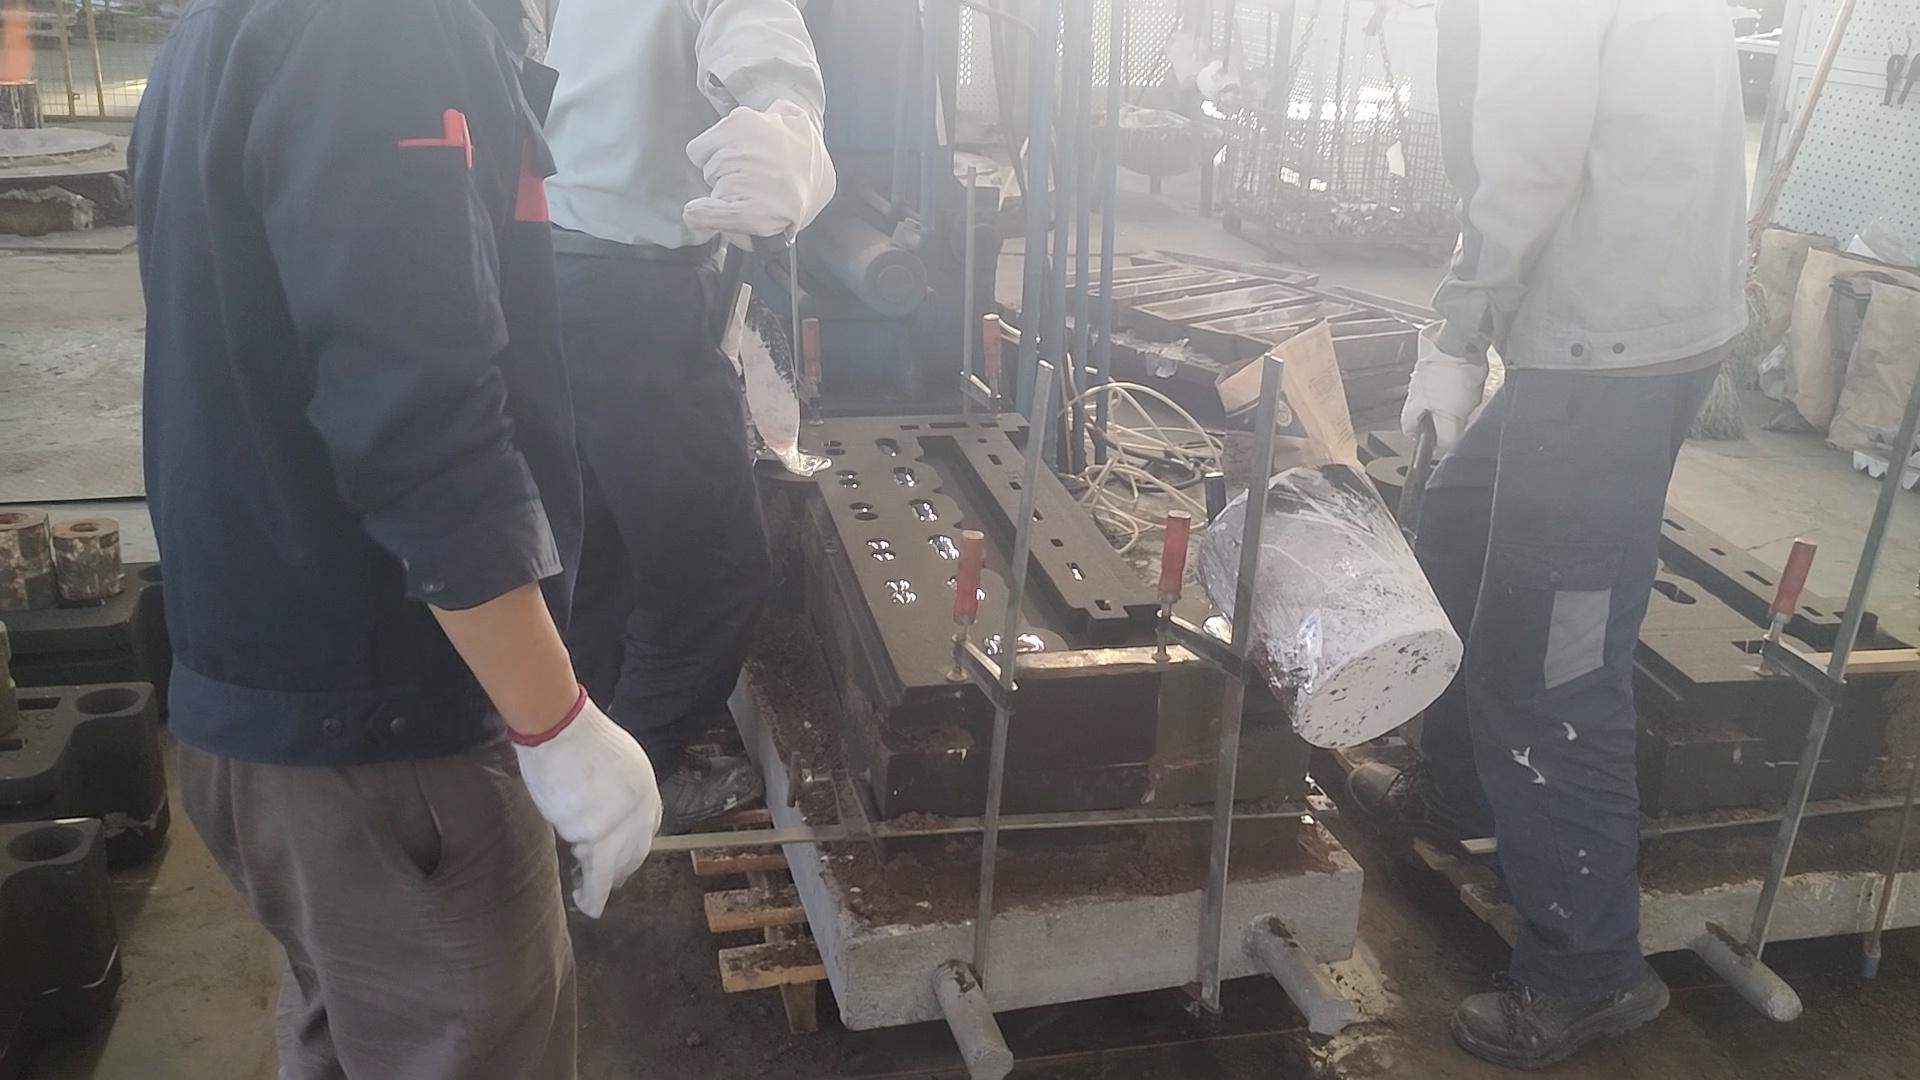pouring hole: (8, 825, 84, 861), (73, 687, 142, 713), (1203, 615, 1255, 644), (779, 454, 831, 473), (1396, 462, 1437, 483), (135, 563, 175, 583)
